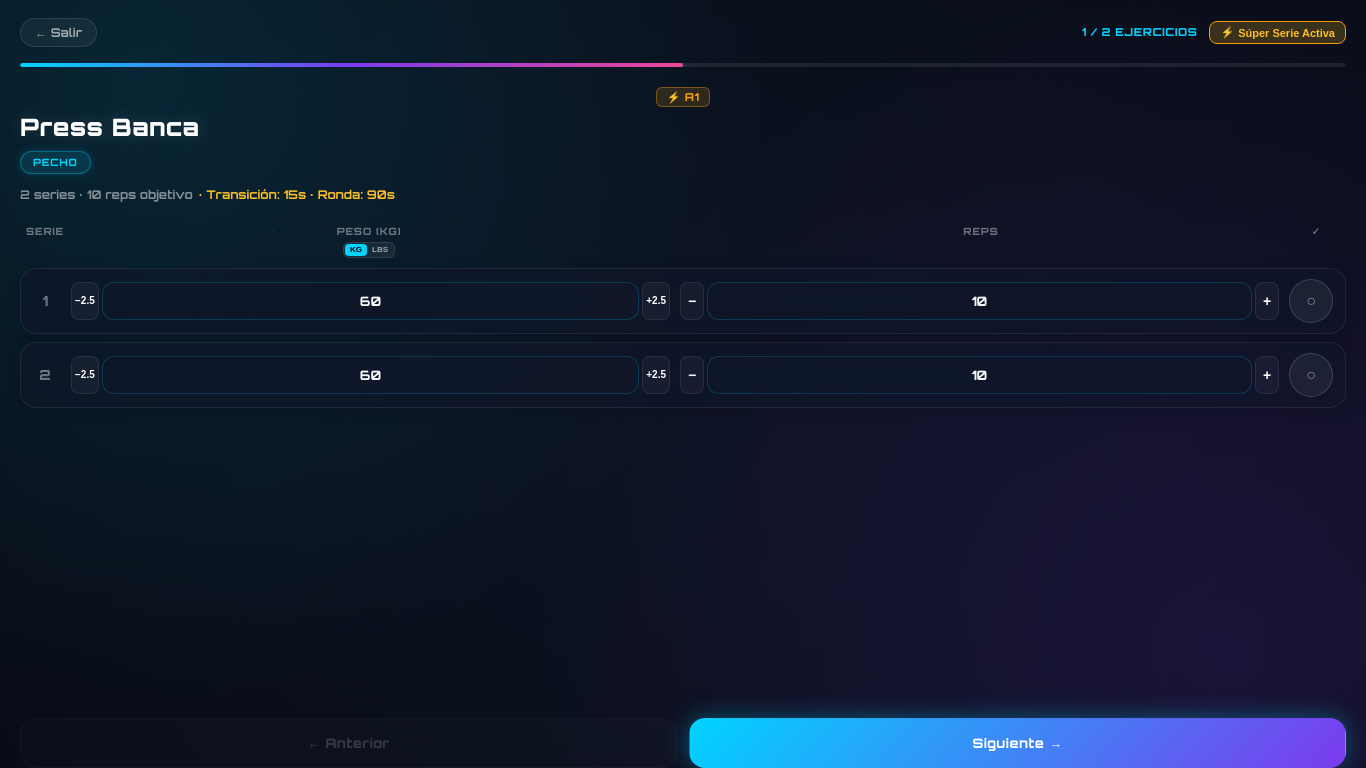
it: ActiveSession Component › la transición dentro de una Súper Serie se ve, suena y se vibra distinto a un descanso completo
Click the button named "Marcar serie 1 como completada" at [1311, 301], box 1289,279 -> 1333,323
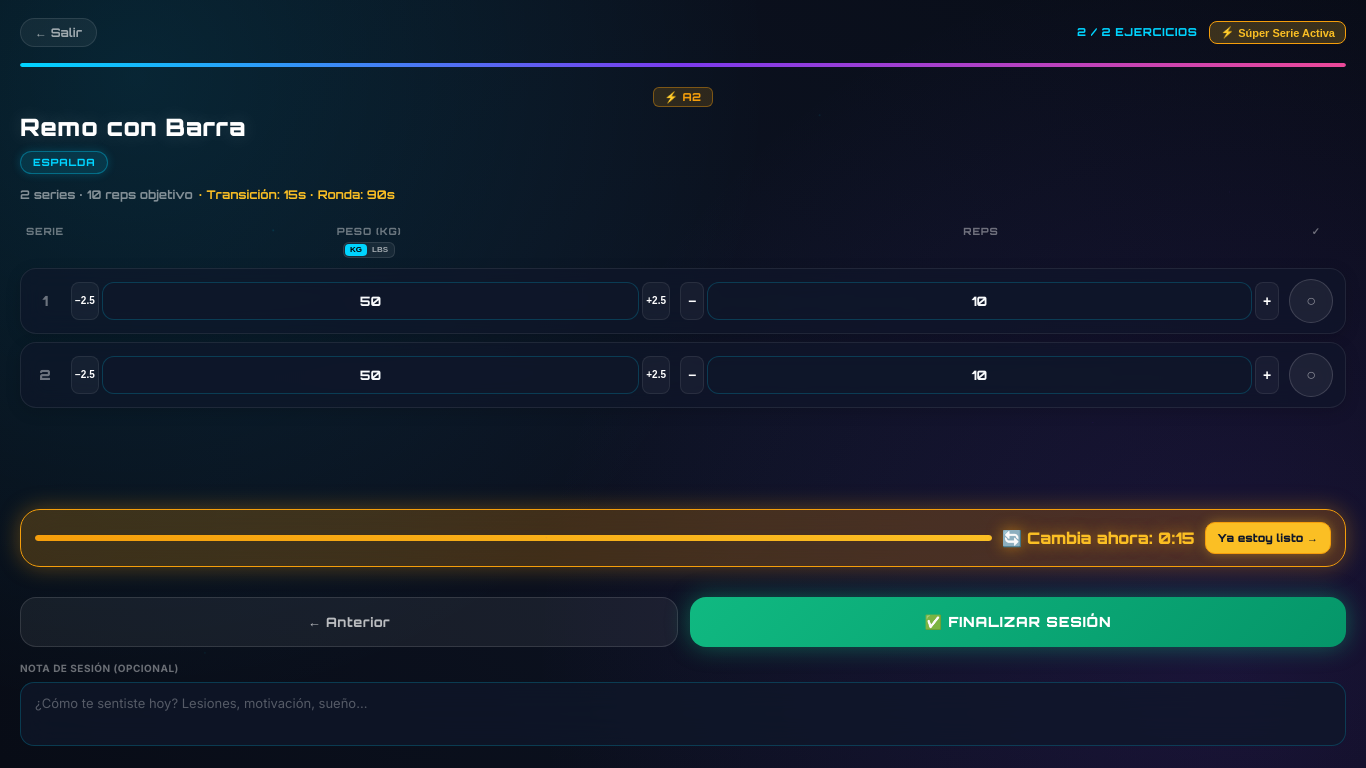
Expected: the text "🔄 Cambia ahora: 0:15" is shown, 1002,526 -> 1195,550
Expected: the button "Ya estoy listo →" is shown, 1205,522 -> 1331,554
